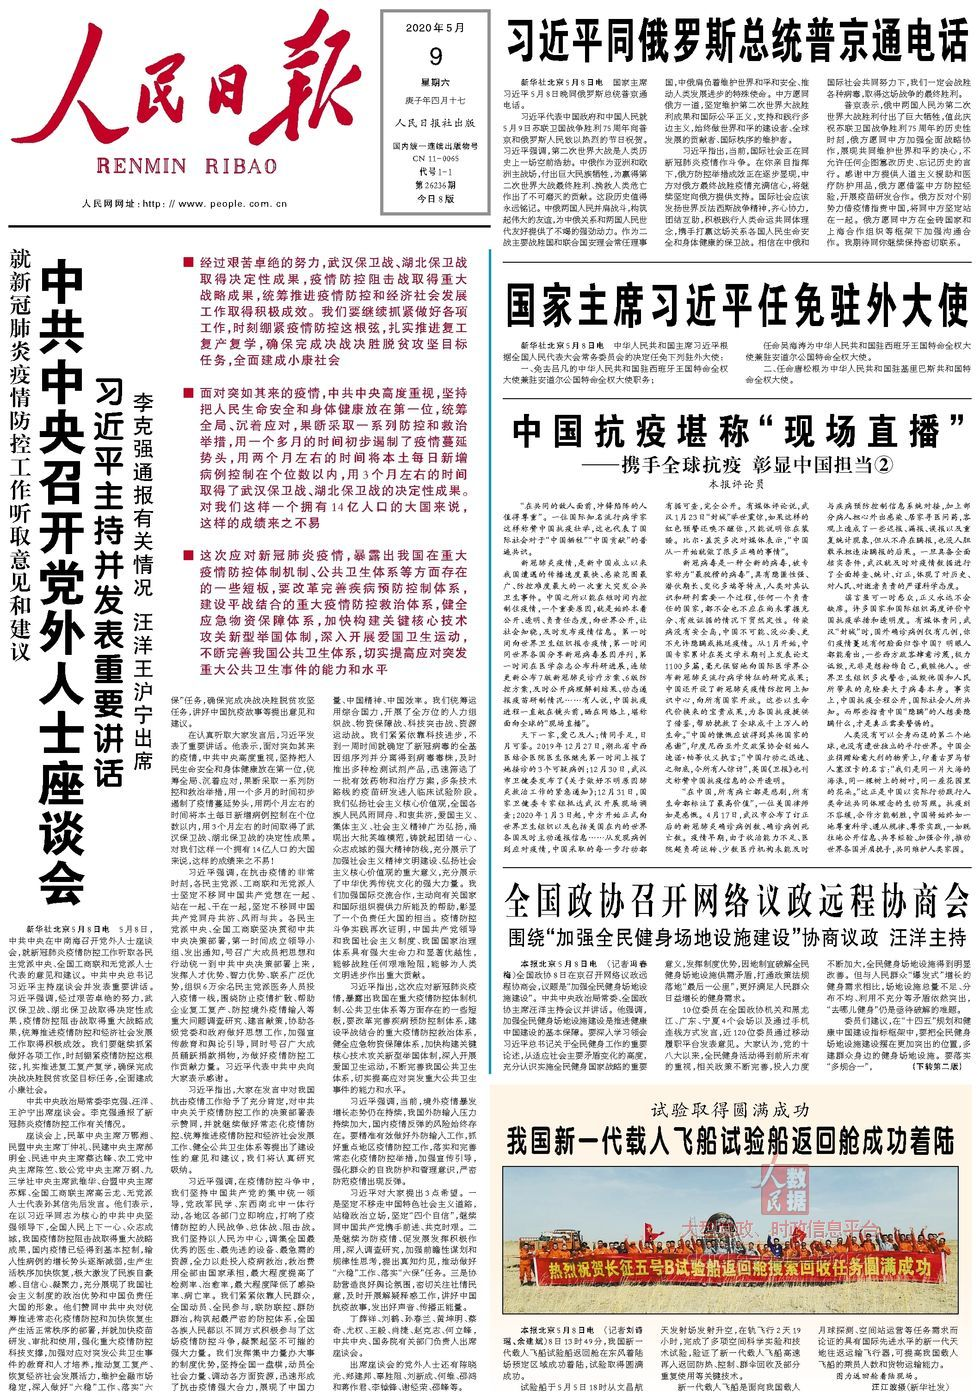pic: (497, 1162, 964, 1320)
